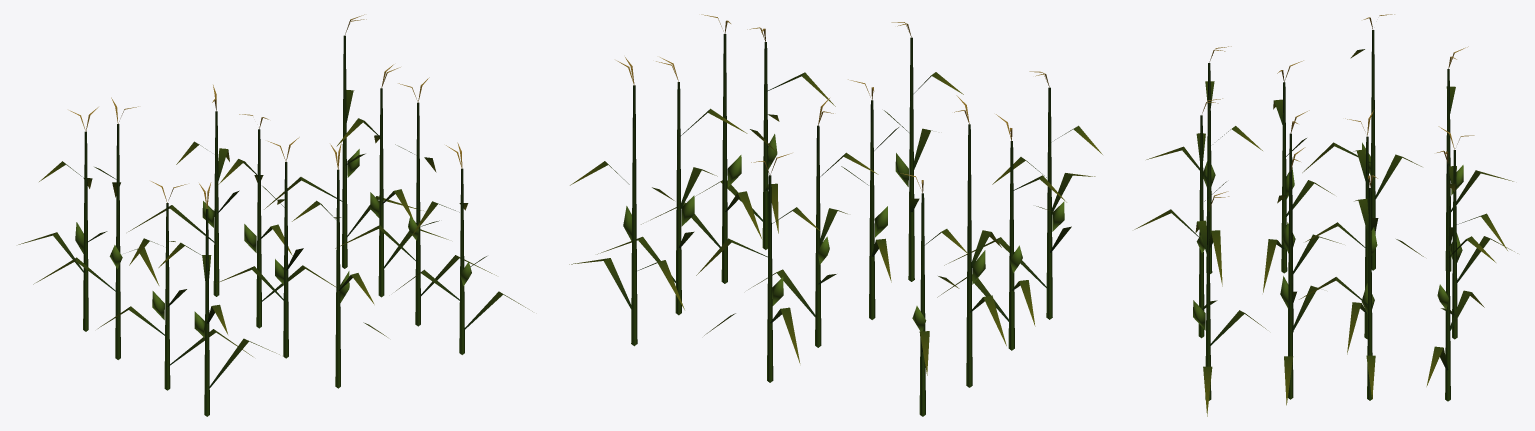
Rendered from fm_maize_3_lod1.glb.
3 renders of one model, left to right at view 1: azimuth 30°, elevation 25°; view 2: azimuth 150°, elevation 25°; view 3: azimuth 270°, elevation 25°, orthographic. The views are drawn at different scales.
Parts seen in each view (by area): view 1: fm_maize_3_lod1; view 2: fm_maize_3_lod1; view 3: fm_maize_3_lod1.
Boxes of the visible parts, bbox=[...] form: fm_maize_3_lod1: bbox=[18, 14, 532, 416]; fm_maize_3_lod1: bbox=[569, 14, 1102, 416]; fm_maize_3_lod1: bbox=[1134, 14, 1517, 416].
Size of the model in its own units: 4.2 by 2.54 by 3.47.
